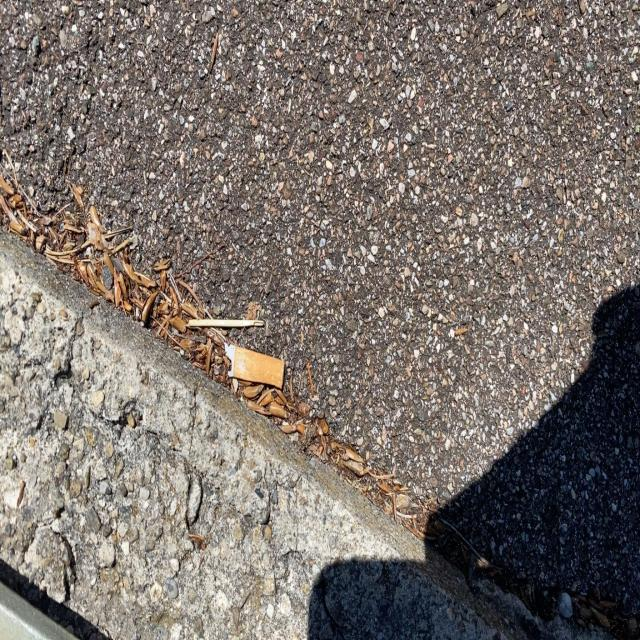other waste: (224, 339, 285, 390)
